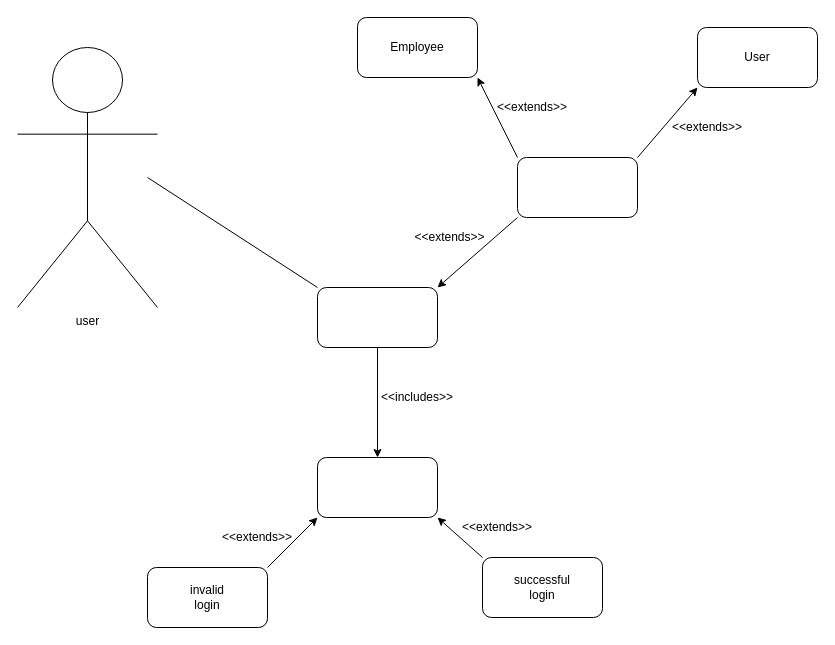
Image size: 835x645. Some labels were removed from this diagram. The shapes that lost their labels are listed below. From the top down, each one's box as (x1, y1, x2, y2) in pixels, then its label:
(516, 156, 638, 218): Create account
(316, 286, 438, 348): Login
(316, 456, 438, 518): Verify login
